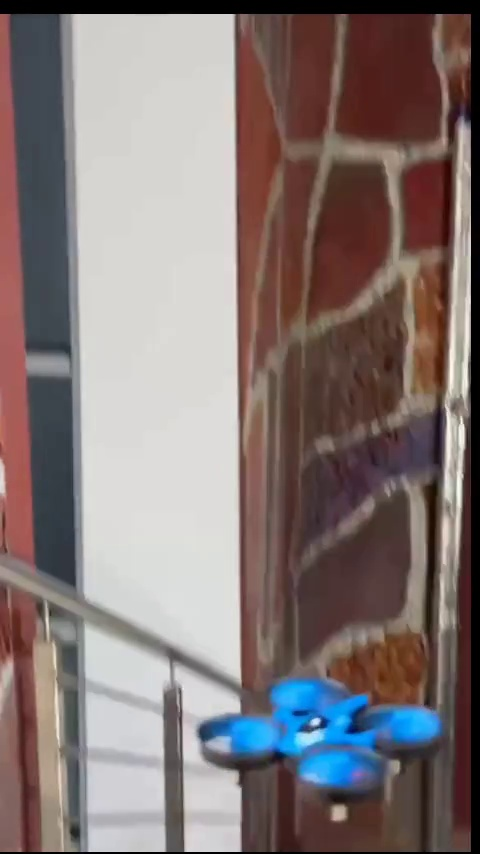drone: (204, 679, 457, 809)
